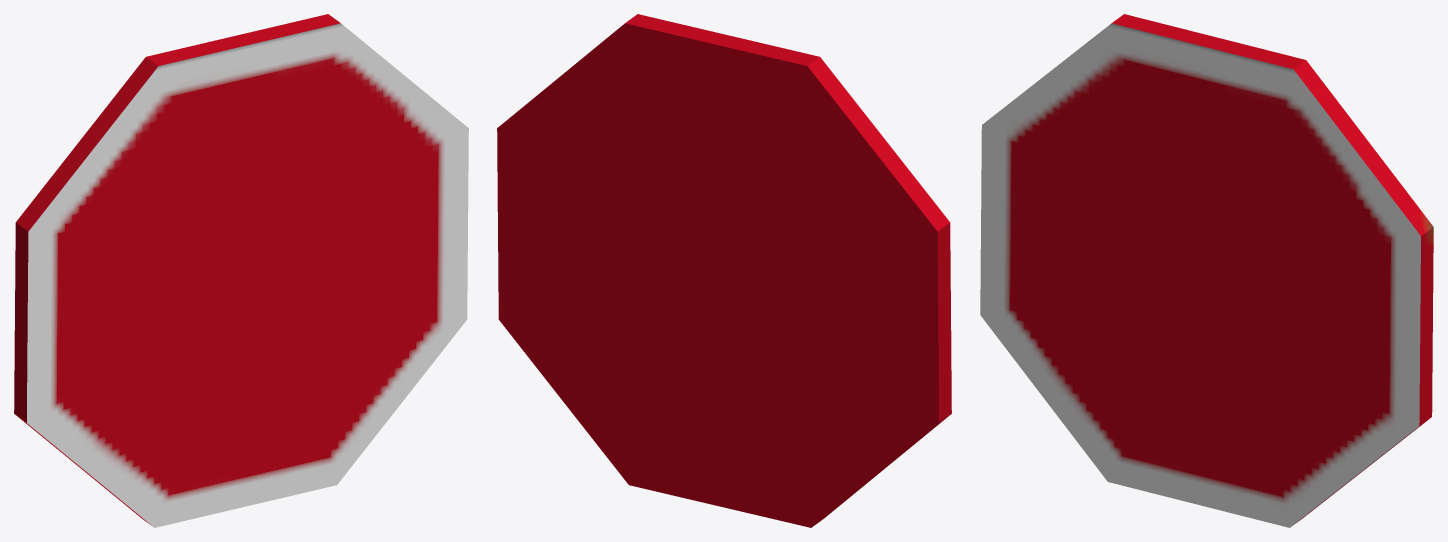
File: PlacaDePare.fbx
The picture shows the model from 3 angles, left to right: view 1: azimuth 30°, elevation 25°; view 2: azimuth 150°, elevation 25°; view 3: azimuth 330°, elevation 25°; orthographic projection.
Parts seen in each view (by area): view 1: PlacaDePare; view 2: PlacaDePare; view 3: PlacaDePare.
Boxes of the visible parts, <box> form: PlacaDePare: <box>14,14,468,527</box>; PlacaDePare: <box>497,14,951,527</box>; PlacaDePare: <box>980,14,1433,527</box>.
Size of the model in its own units: 149 by 149 by 7.41.
